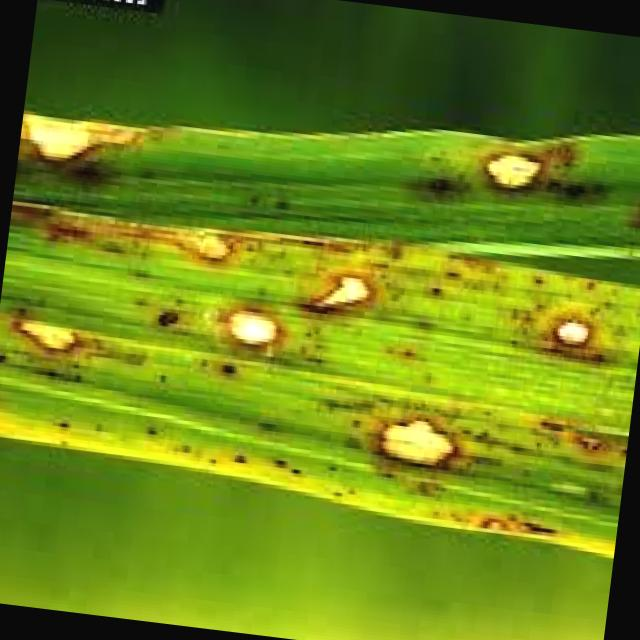leaf_blight: (0, 201, 640, 557)
